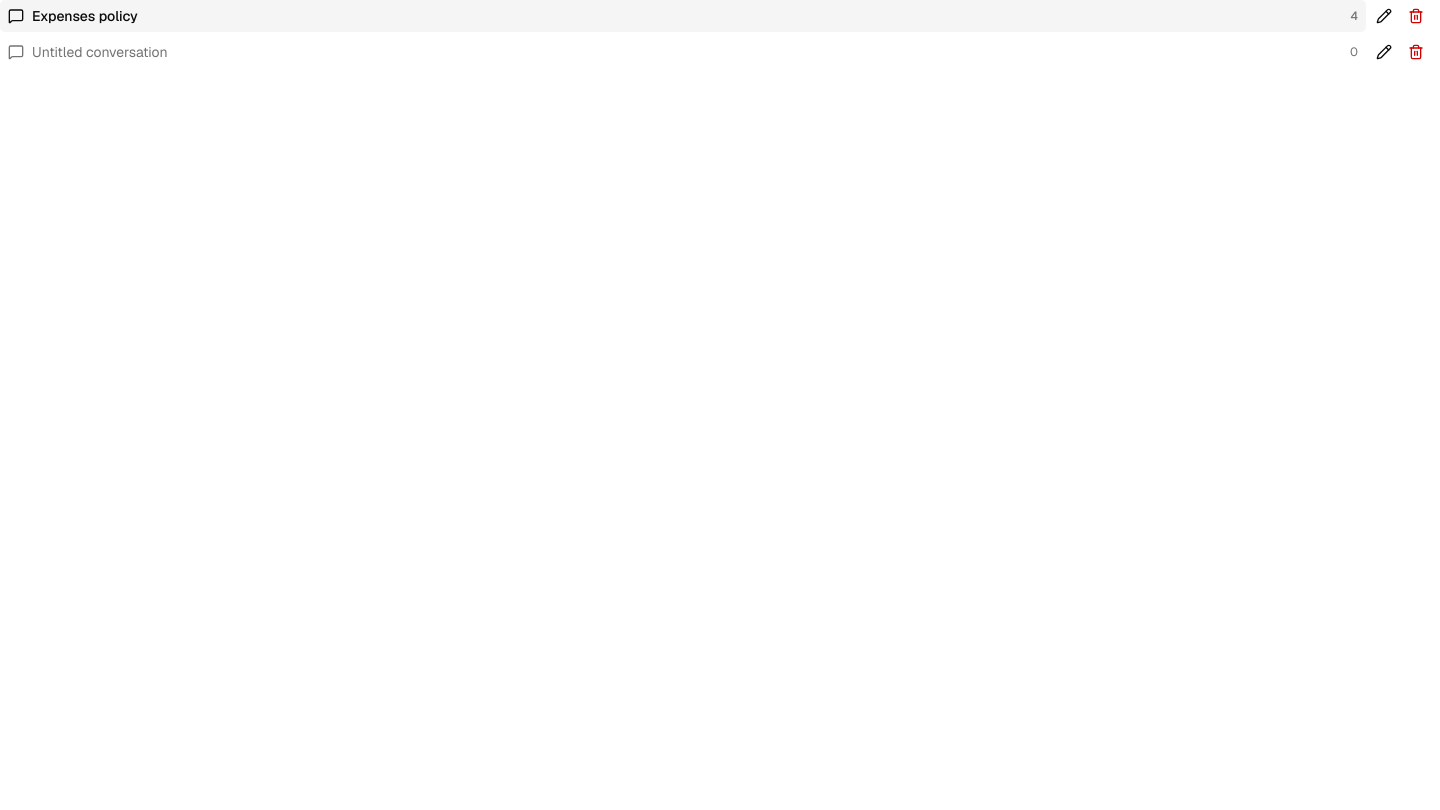
Scenario: ConversationList › deletes nothing until the confirmation is accepted
This screenshot has width=1440, height=810.
Click the button named "Delete Expenses policy" at (1416, 16), box left=1402, top=2, right=1430, bottom=30
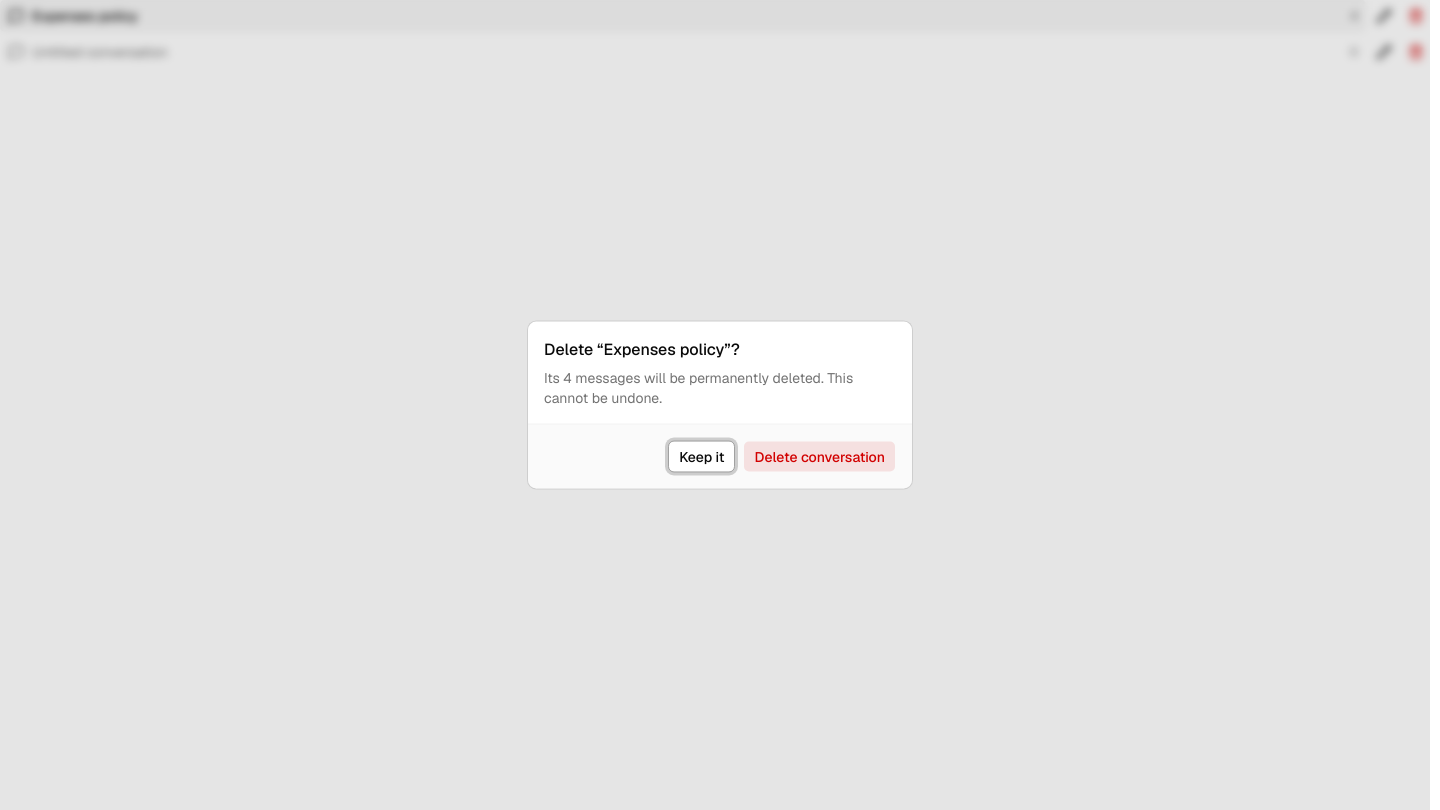
Now the dialog is shown, box left=528, top=322, right=912, bottom=488
